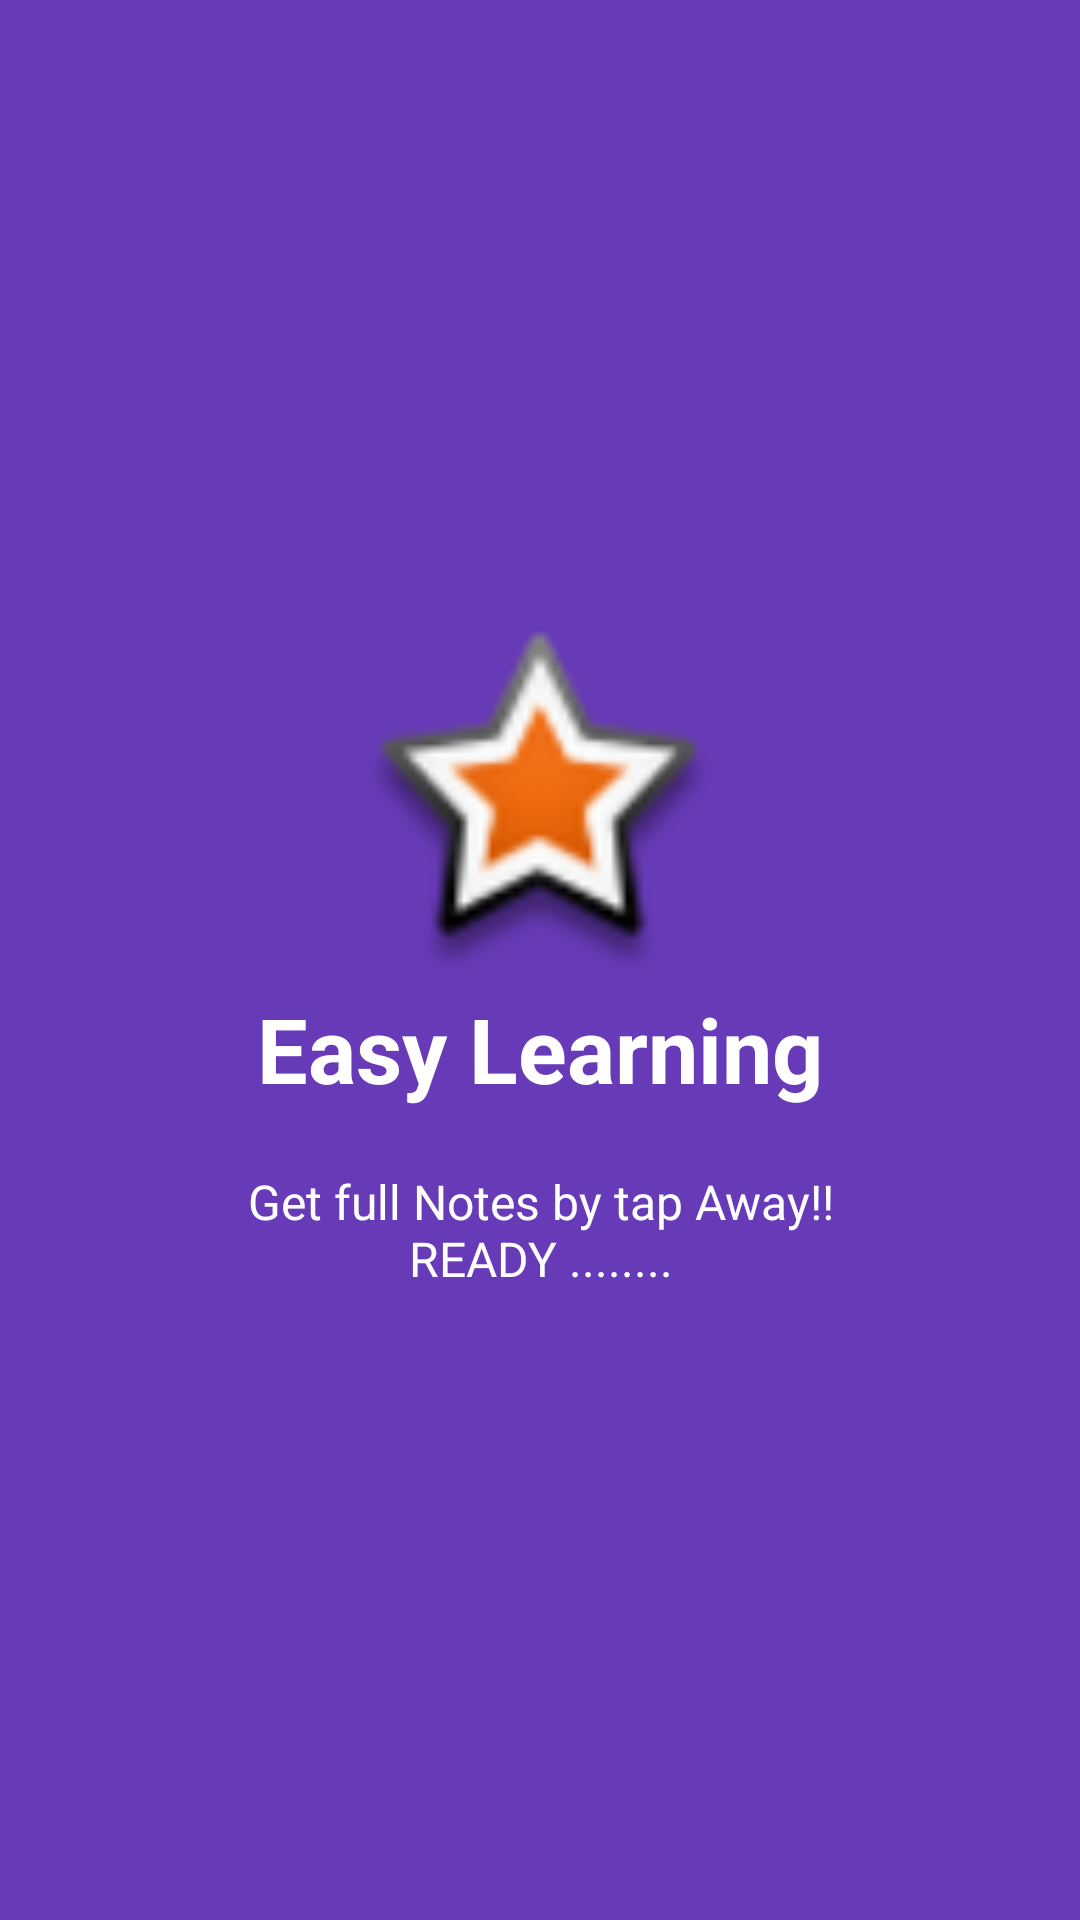

Icon bounding boxes for this 1080 x 1920 phone screenshot, format (x1, y1, x2, y2):
star on: (381, 634, 698, 956)
